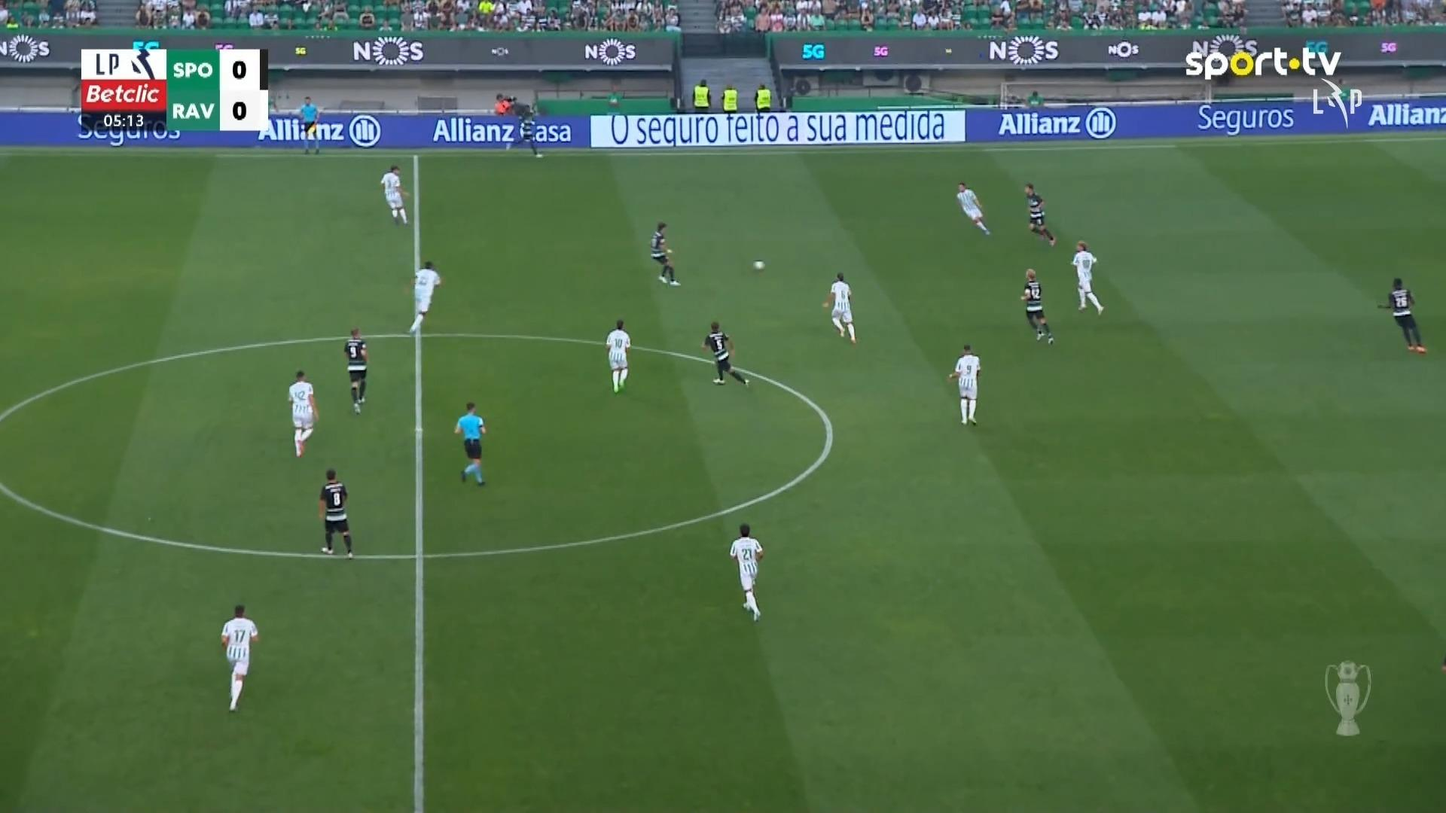ball: (752, 260, 764, 270)
player: (219, 604, 259, 712), (1376, 277, 1426, 353), (728, 522, 764, 622), (318, 467, 354, 559), (701, 321, 749, 386), (947, 343, 981, 425), (287, 369, 318, 457), (1020, 268, 1054, 345), (407, 260, 441, 335), (1071, 239, 1104, 315), (822, 272, 856, 344), (343, 327, 368, 415), (1023, 182, 1057, 246), (649, 221, 680, 286), (605, 318, 631, 393), (955, 181, 991, 235), (506, 108, 543, 157), (380, 164, 409, 226)
referee: (453, 400, 487, 486), (297, 95, 320, 154)
